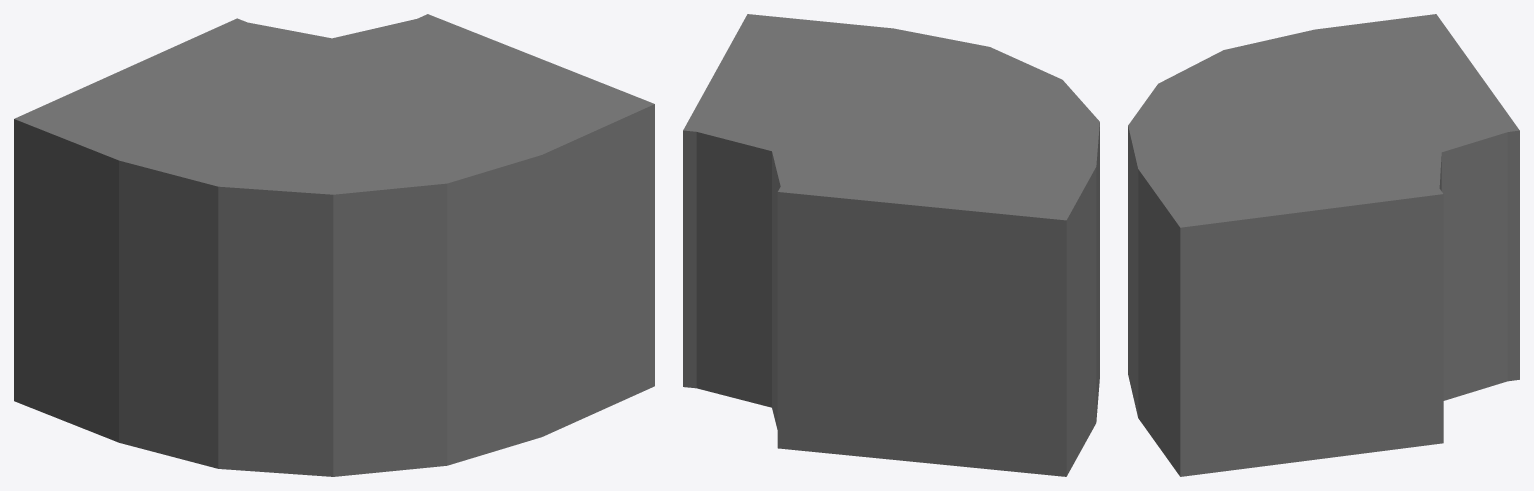
Rendered from Building Vent turn 2.fbx.
3 renders of one model, left to right at view 1: azimuth 30°, elevation 25°; view 2: azimuth 150°, elevation 25°; view 3: azimuth 270°, elevation 25°, orthographic. The views are drawn at different scales.
Parts seen in each view (by area): view 1: Building Vent turn 2; view 2: Building Vent turn 2; view 3: Building Vent turn 2.
Boxes of the visible parts, bbox=[...] form: Building Vent turn 2: bbox=[14, 14, 654, 476]; Building Vent turn 2: bbox=[683, 14, 1099, 476]; Building Vent turn 2: bbox=[1128, 14, 1519, 476].
Size of the model in its own units: 198 by 154 by 108.
